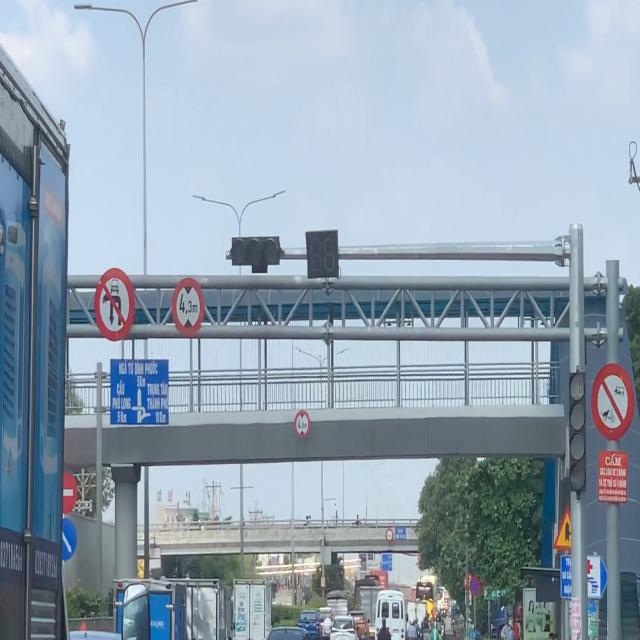Cam dung va do: (469, 573, 480, 597)
Chieu cao toi da: (173, 275, 202, 337), (294, 408, 310, 439)
